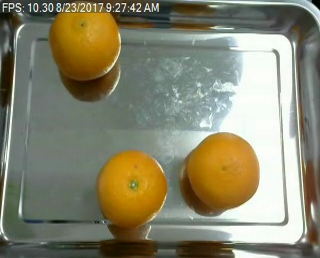Orange: (186, 131, 262, 210), (97, 148, 169, 228)
